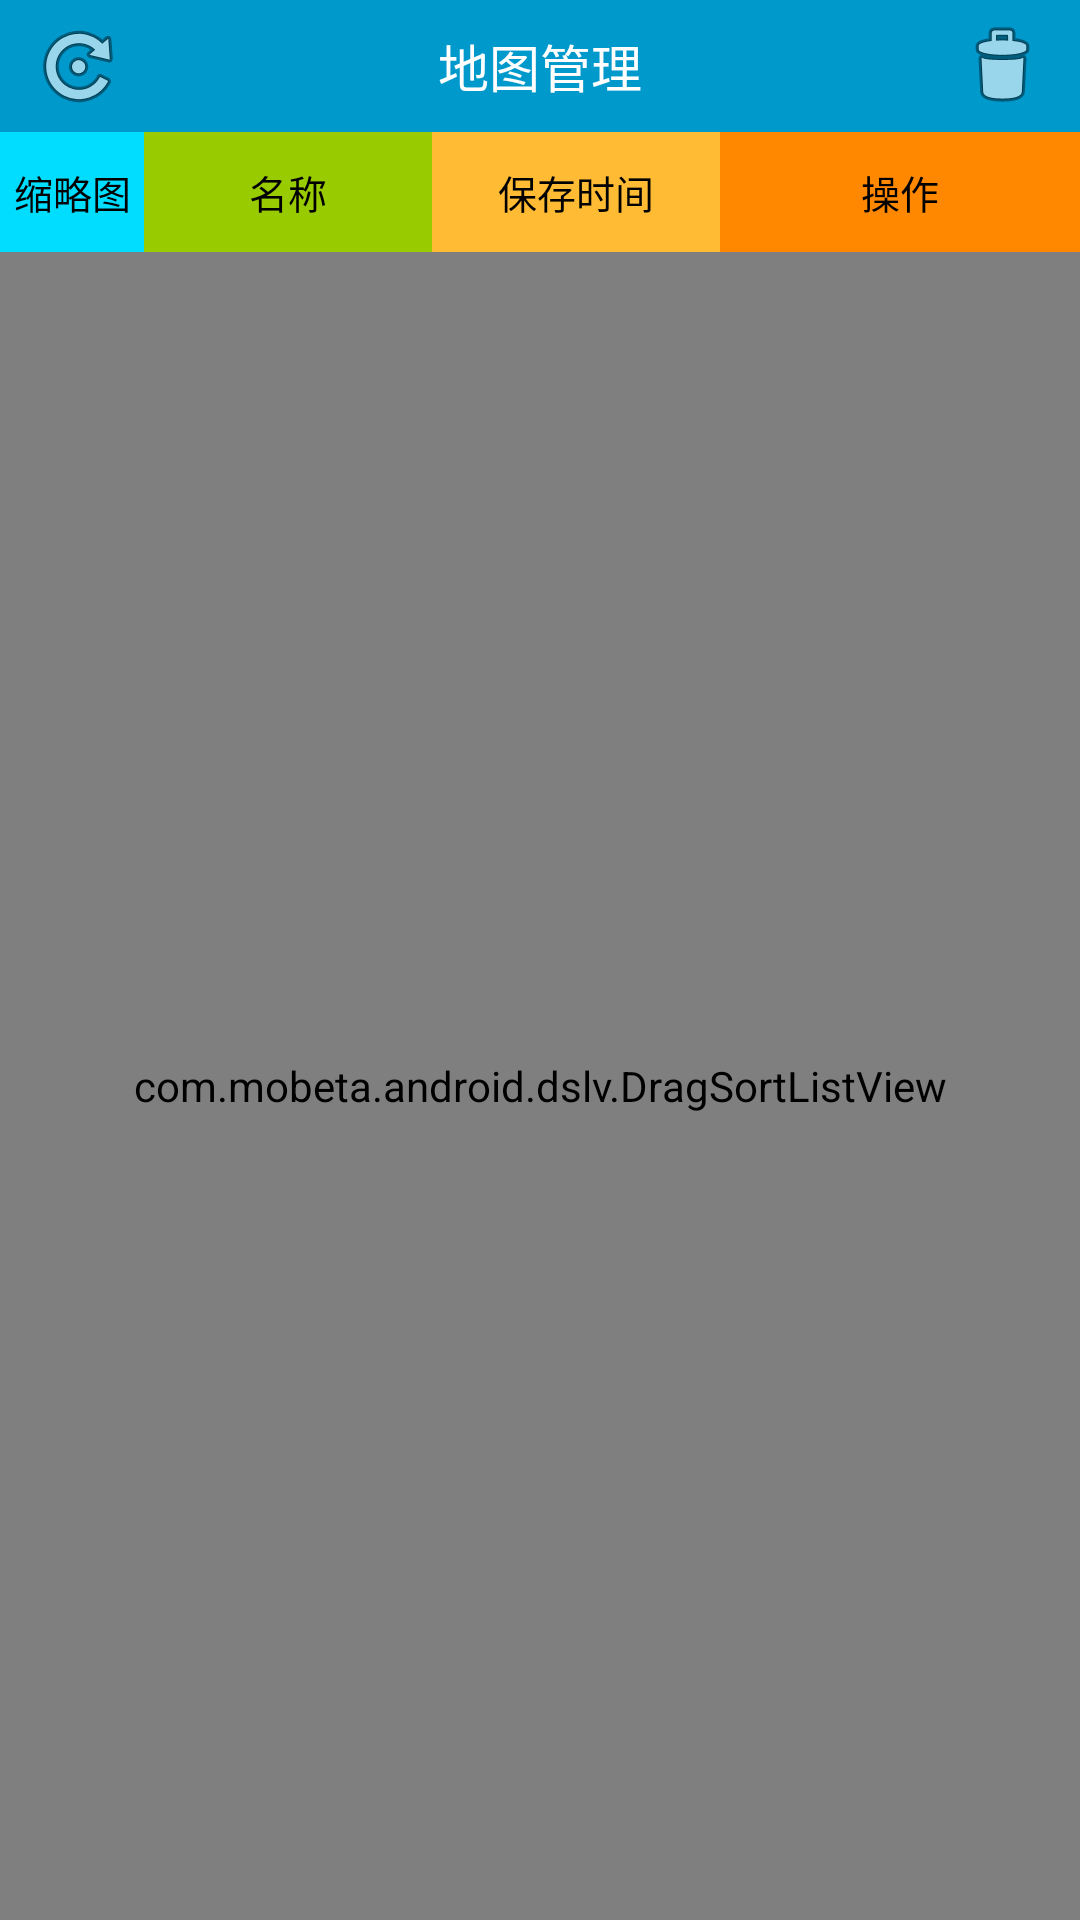

Icons on this 1080*1920 Android screen, each with its box as (x1, y1, x2, y2):
delete: (975, 27, 1030, 102)
rotate: (43, 31, 113, 102)
